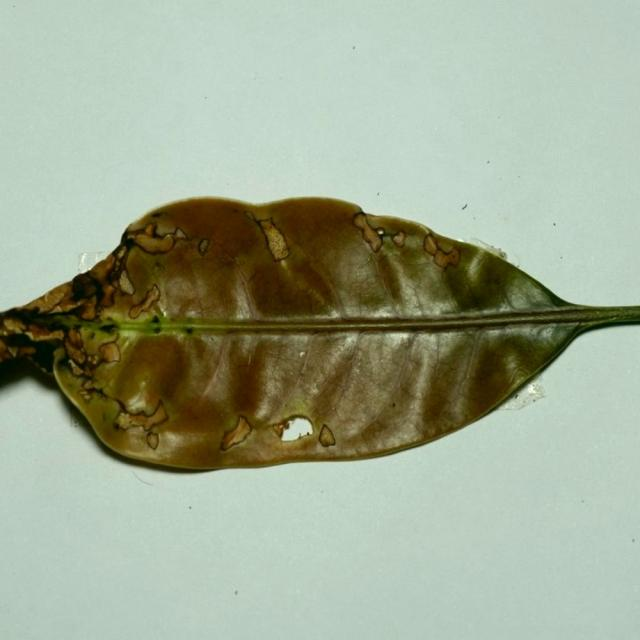Anthracnose: (112, 398, 170, 441), (250, 217, 292, 271), (70, 269, 107, 315), (127, 224, 181, 255), (497, 380, 545, 411), (423, 233, 461, 270), (351, 212, 384, 254), (127, 283, 161, 320), (219, 415, 253, 451), (64, 330, 89, 369), (98, 340, 121, 363), (2, 315, 29, 334), (118, 269, 135, 296), (318, 423, 336, 447), (243, 209, 261, 226), (77, 386, 95, 402), (113, 244, 127, 264), (273, 423, 285, 438)
Mango: (0, 197, 639, 476)
